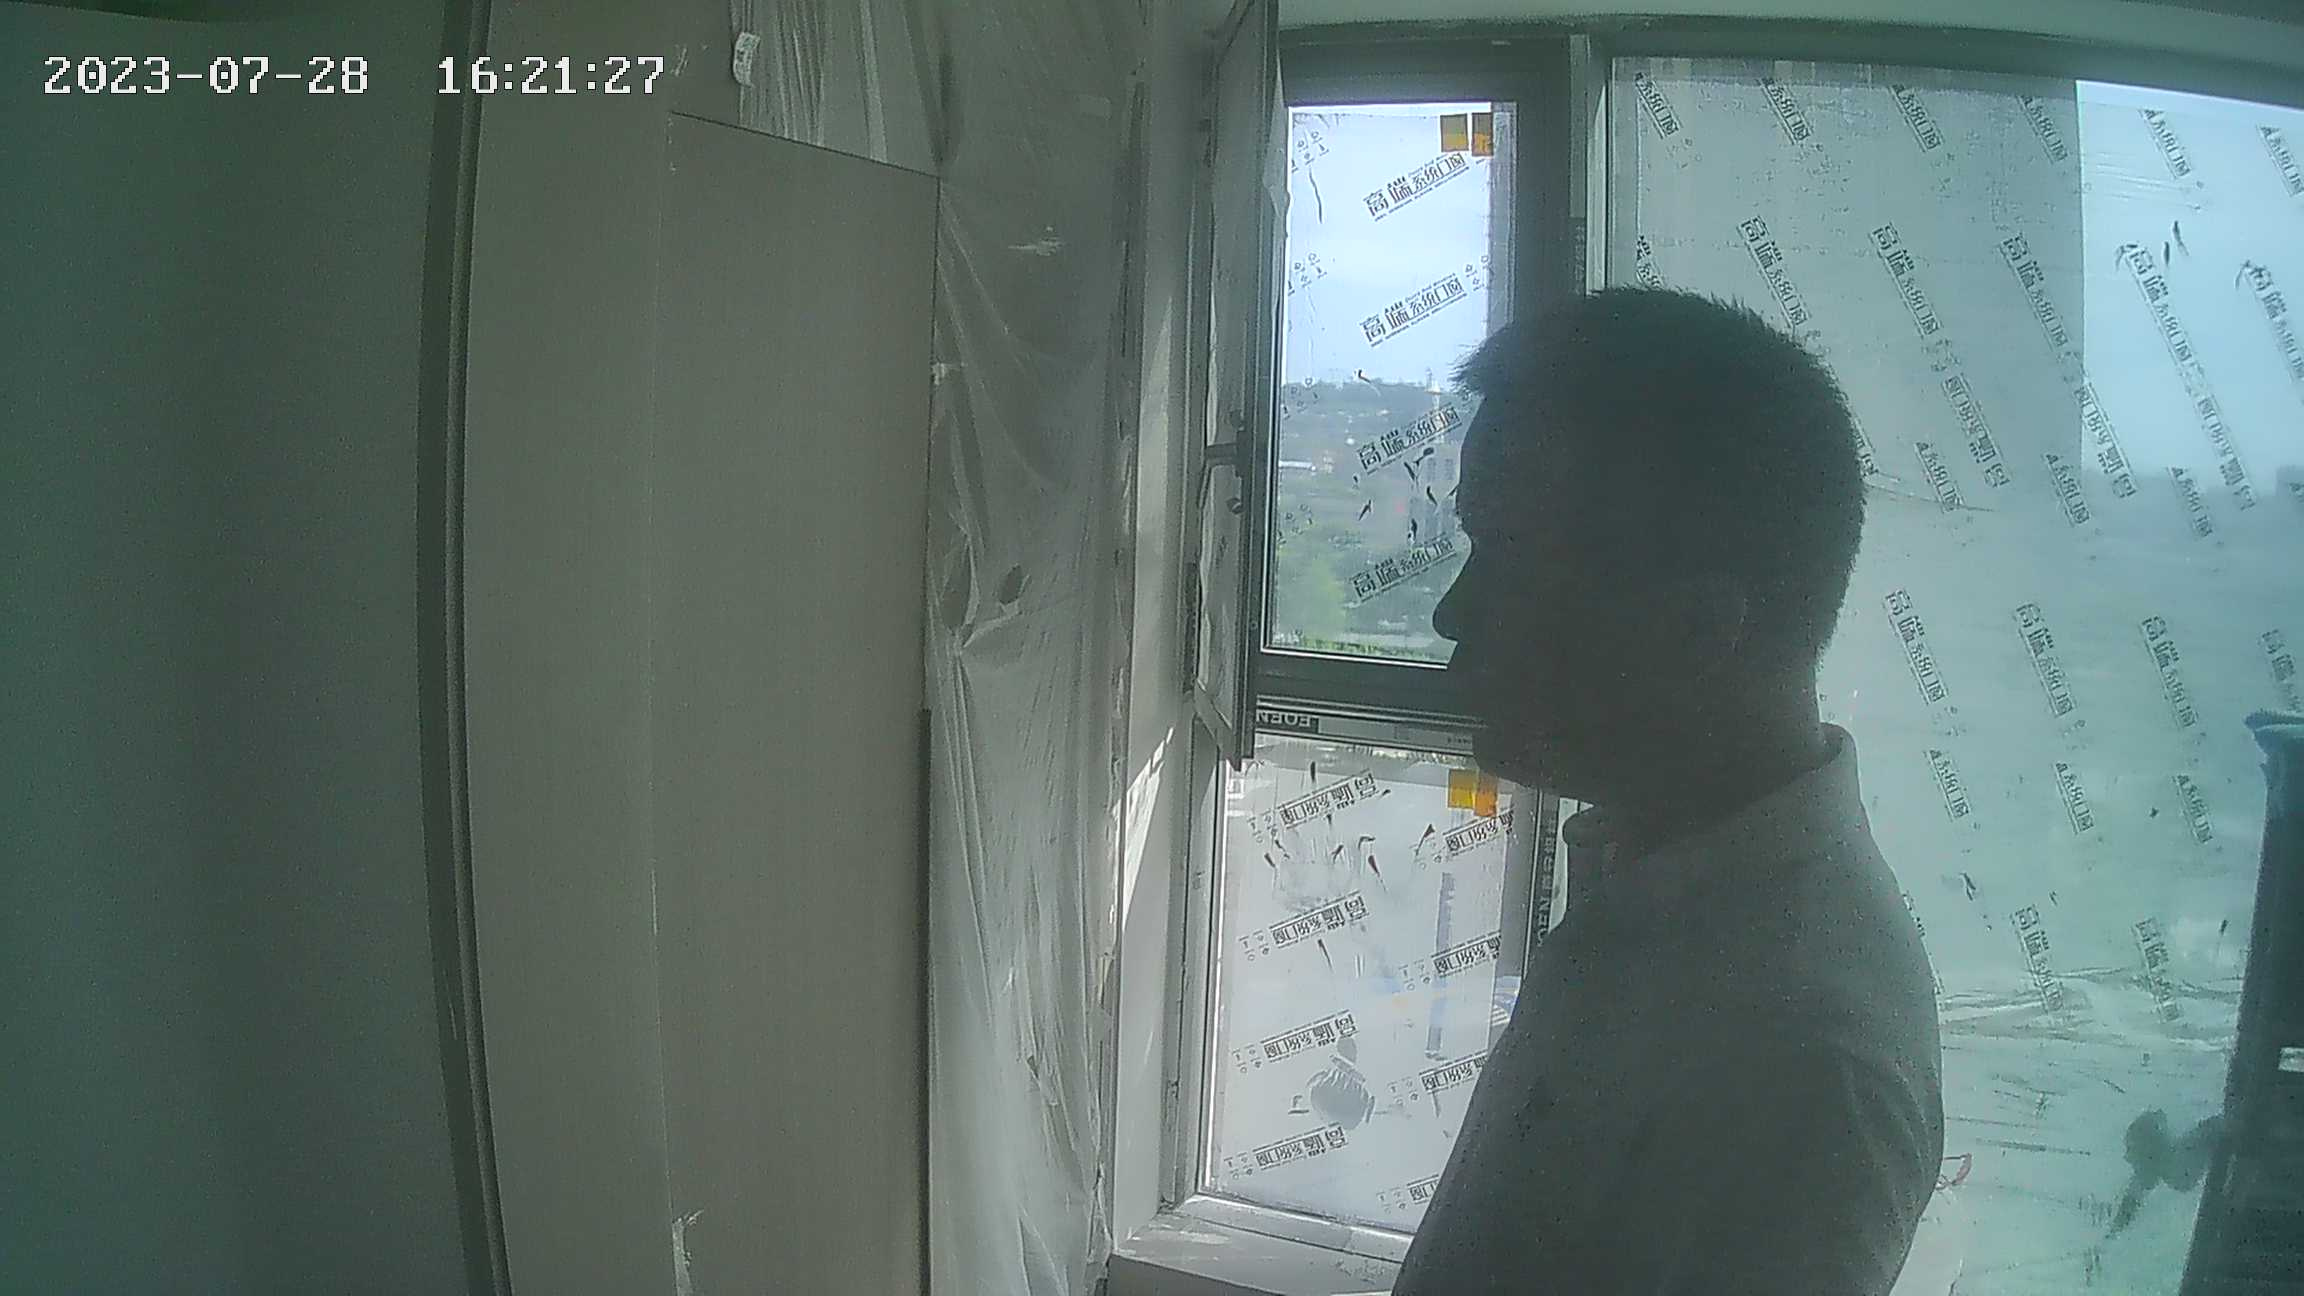people: (1359, 284, 1954, 1296)
window: (1199, 45, 2301, 1296)
